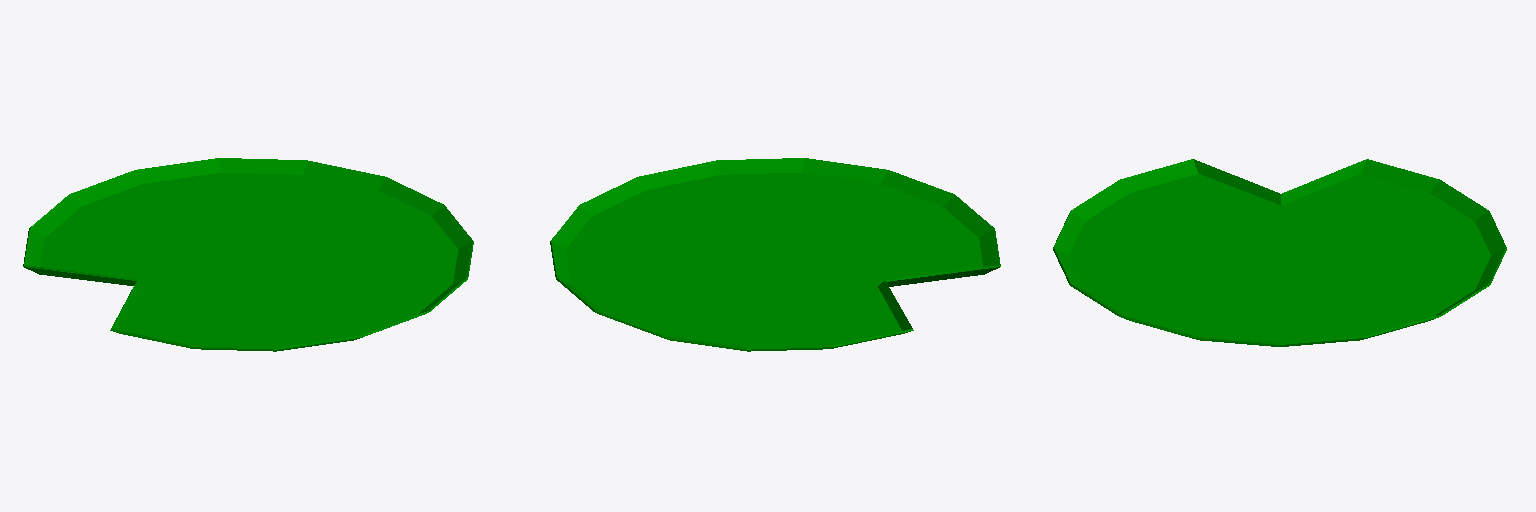
The model's file is Lilypad.obj.
3 renders of one model, left to right at view 1: azimuth 30°, elevation 25°; view 2: azimuth 150°, elevation 25°; view 3: azimuth 270°, elevation 25°, orthographic.
Parts seen in each view (by area): view 1: Lilypad_Circle.004; view 2: Lilypad_Circle.004; view 3: Lilypad_Circle.004.
Part boxes in pixels (left/top/right/bottom): Lilypad_Circle.004: left=23, top=158, right=473, bottom=351; Lilypad_Circle.004: left=550, top=158, right=1000, bottom=351; Lilypad_Circle.004: left=1053, top=159, right=1506, bottom=346.
Size of the model in its own units: 2.07 by 0.0535 by 2.15.